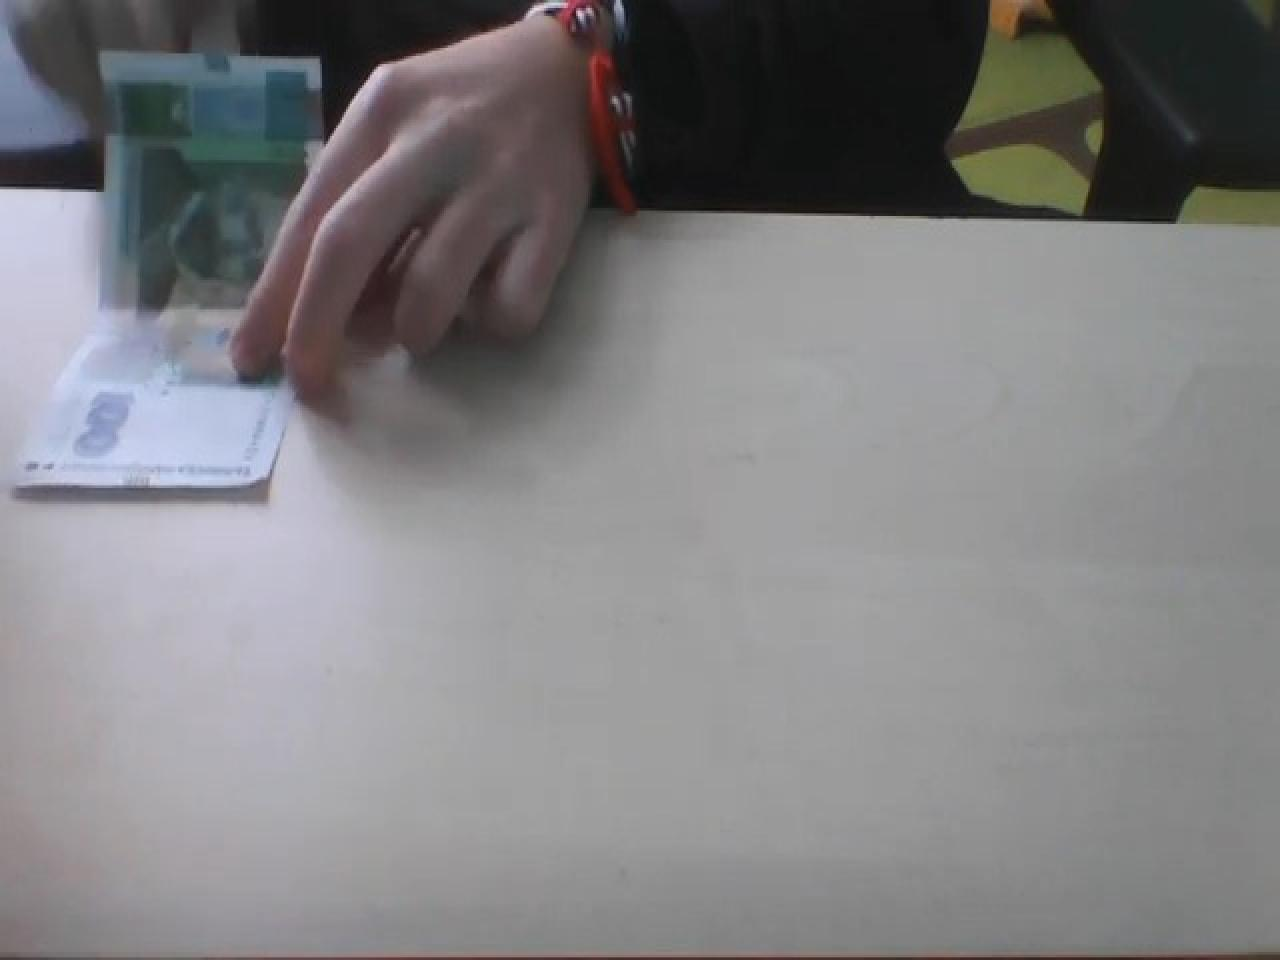100leva: (22, 288, 282, 493)
